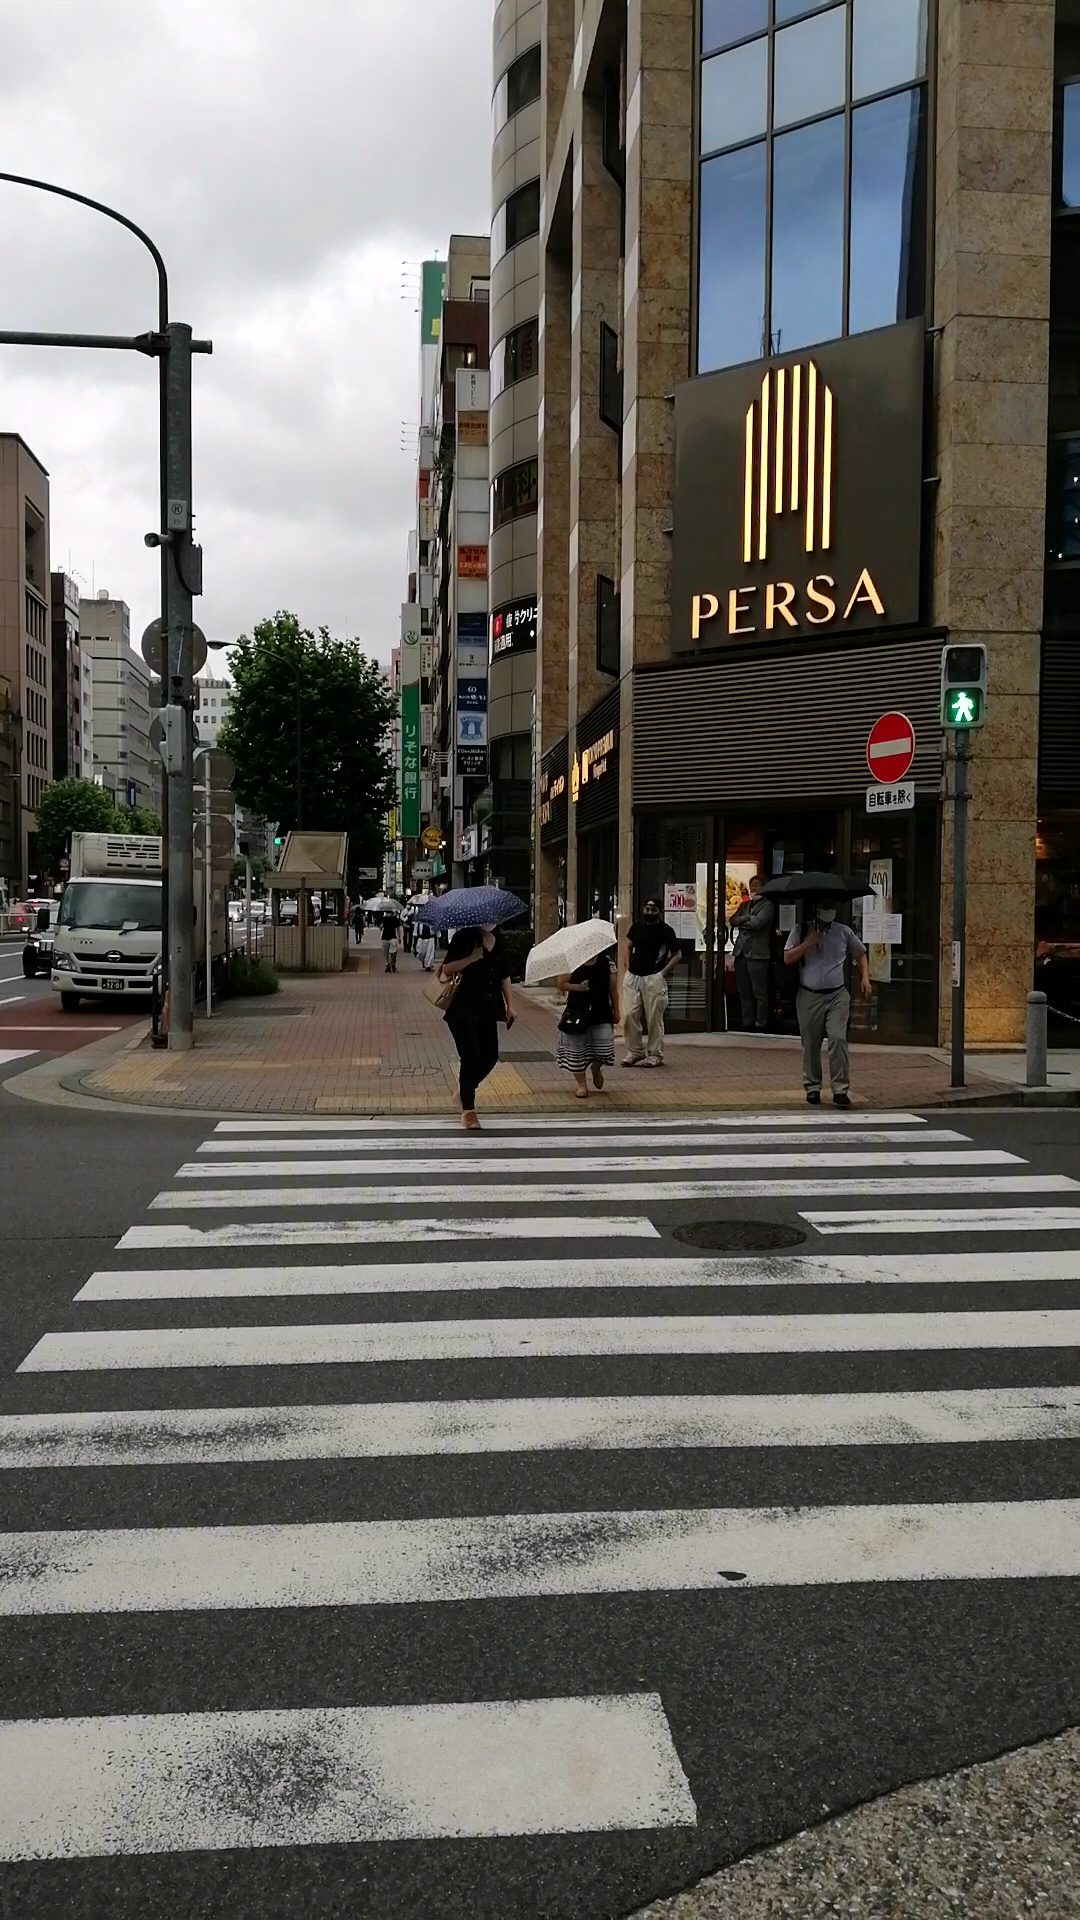green: (940, 640, 986, 729)
